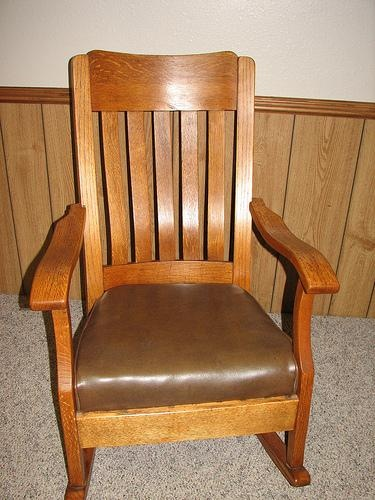obstacle: (30, 51, 338, 499)
